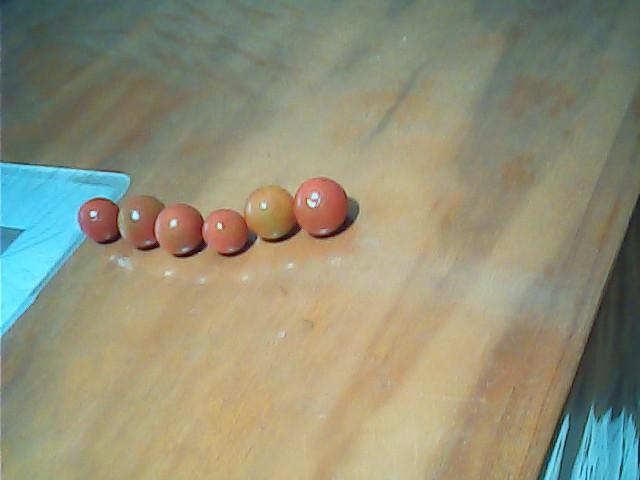maduro: (294, 178, 348, 235), (155, 203, 203, 255), (203, 209, 248, 255), (78, 197, 121, 243)
verde: (244, 185, 296, 239), (118, 196, 164, 249)
